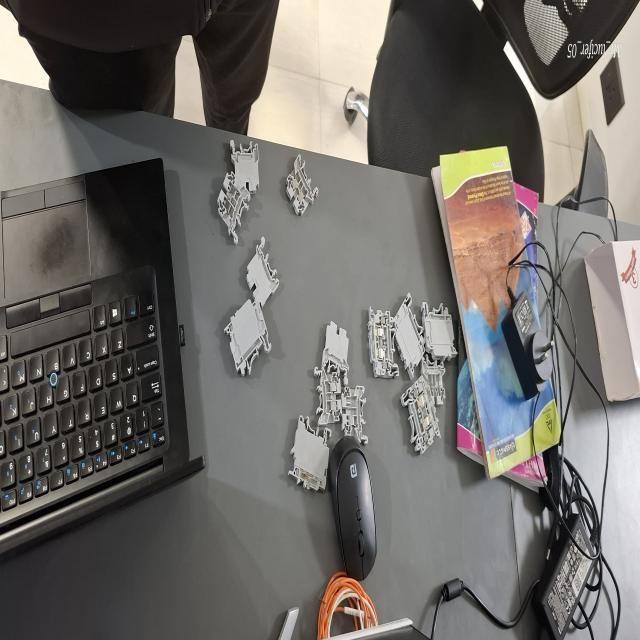Inverted: (224, 140, 267, 199), (244, 238, 280, 308), (321, 318, 352, 386)
Pass: (284, 152, 320, 224), (216, 172, 250, 246), (312, 357, 344, 430)
Reject: (340, 380, 368, 450)
